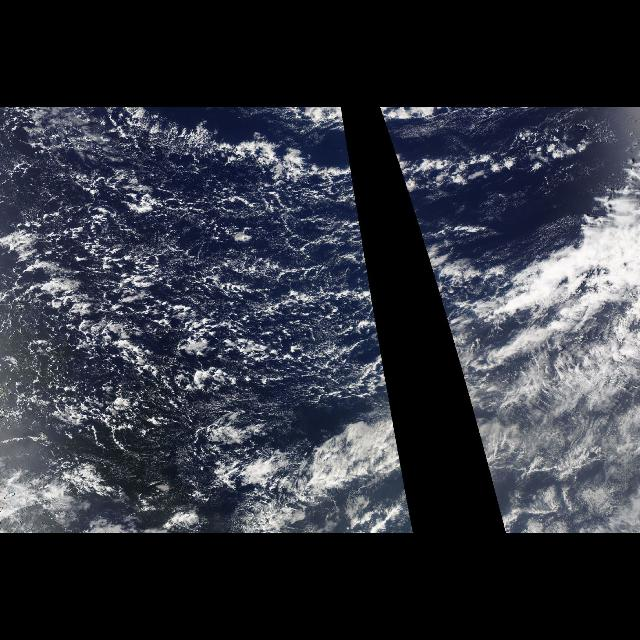Fish: (380, 110, 592, 194), (152, 110, 358, 194)
Gravel: (2, 146, 390, 432)
Sugar: (145, 169, 347, 345)
